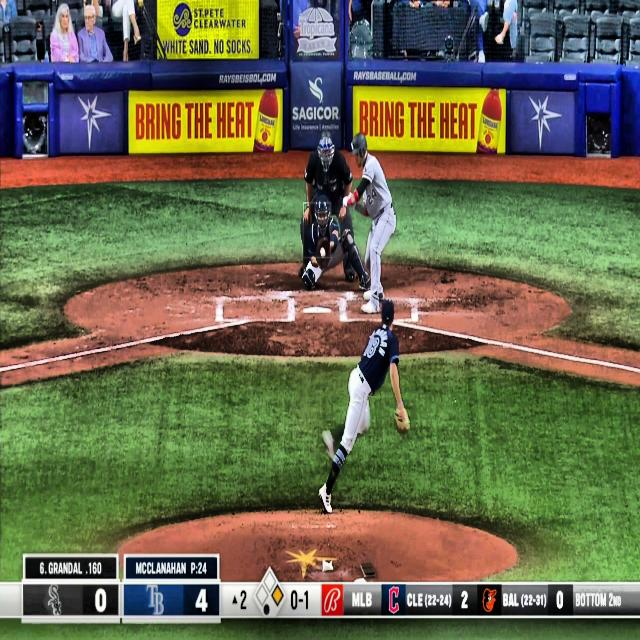baseball: (320, 246, 326, 258)
